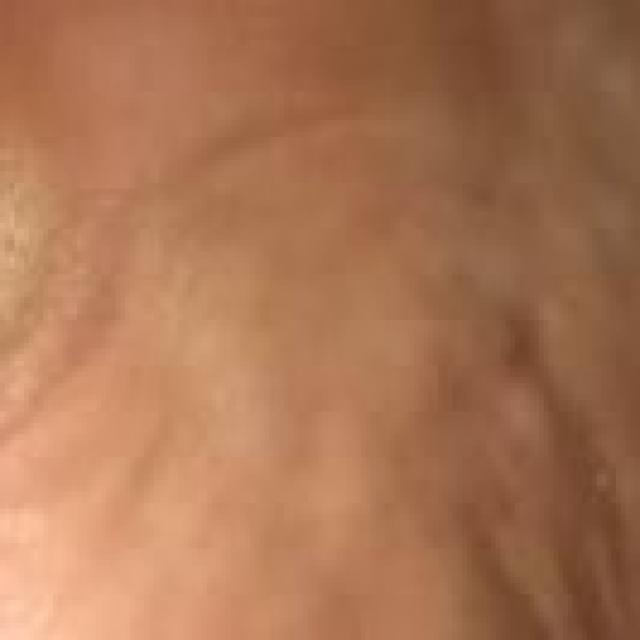wound: (136, 88, 554, 515)
